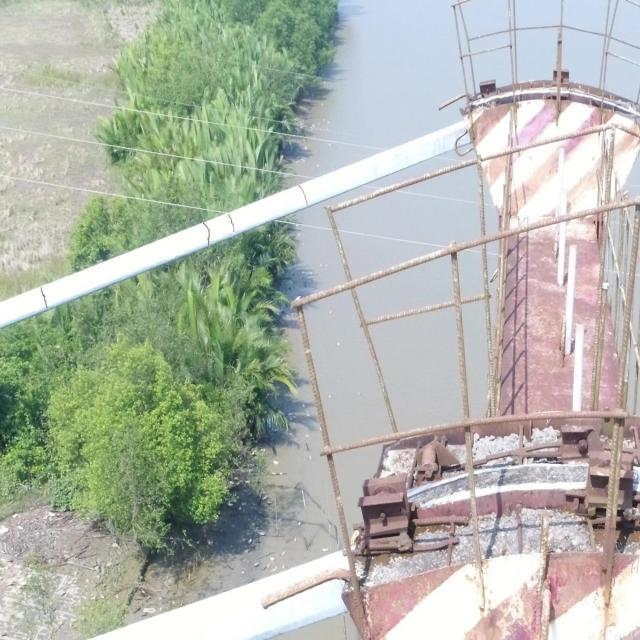crack: (297, 185, 309, 208), (38, 286, 48, 310), (202, 222, 210, 247), (228, 212, 235, 234)
